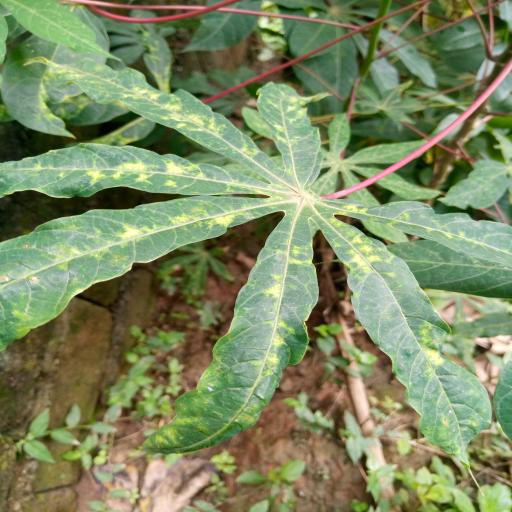Cassava_Mosaic: (5, 48, 512, 474)
